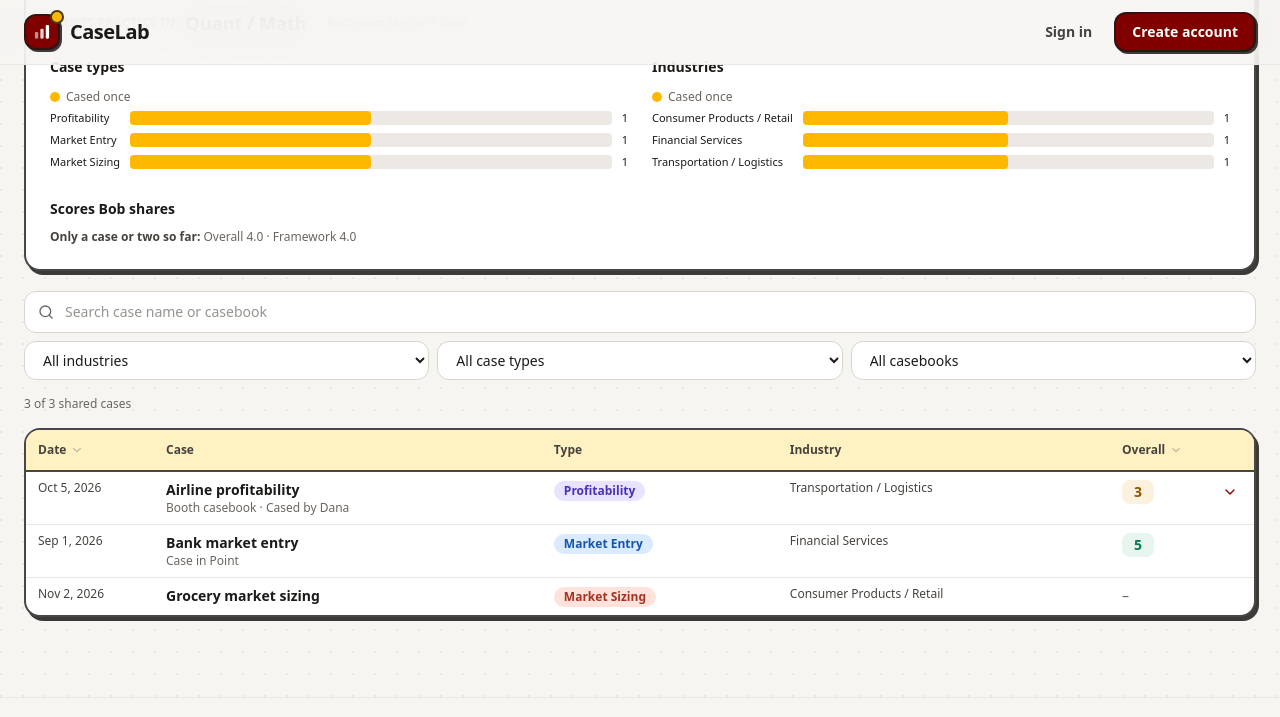
Scenario: a case history read as a table, where the page is one full-width column › filters the whole set, and the count line counts what the filter left
(page scrolled)
Expected: the table is shown, [26, 430, 1254, 614]
Expected: the text "3 of 3 shared cases" is shown, [24, 394, 131, 412]
Select "Market Entry" in the dropdown named "Filter by case type" at (640, 360), box [437, 340, 843, 380]
(page scrolled)
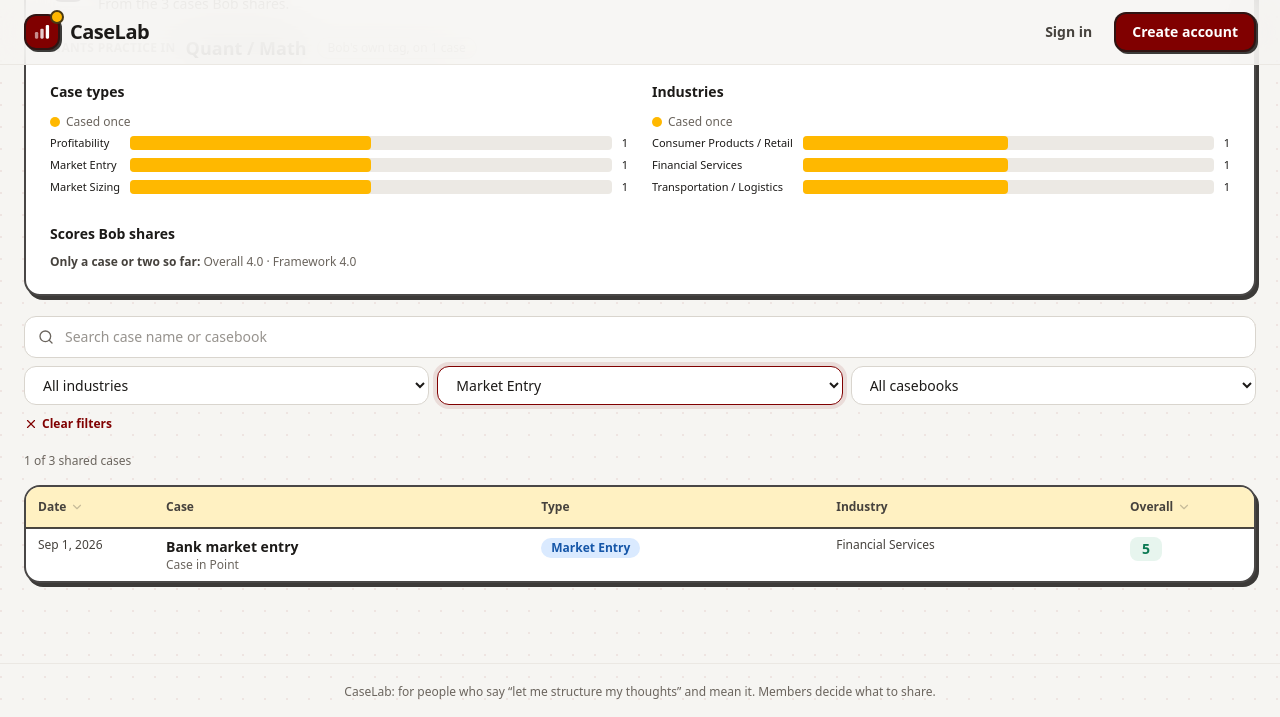
Result: the text "1 of 3 shared cases" is shown at [24, 452, 131, 468]
Select "Market Sizing" in the dropdown named "Filter by case type" at (640, 385), box [437, 366, 843, 404]
(page scrolled)
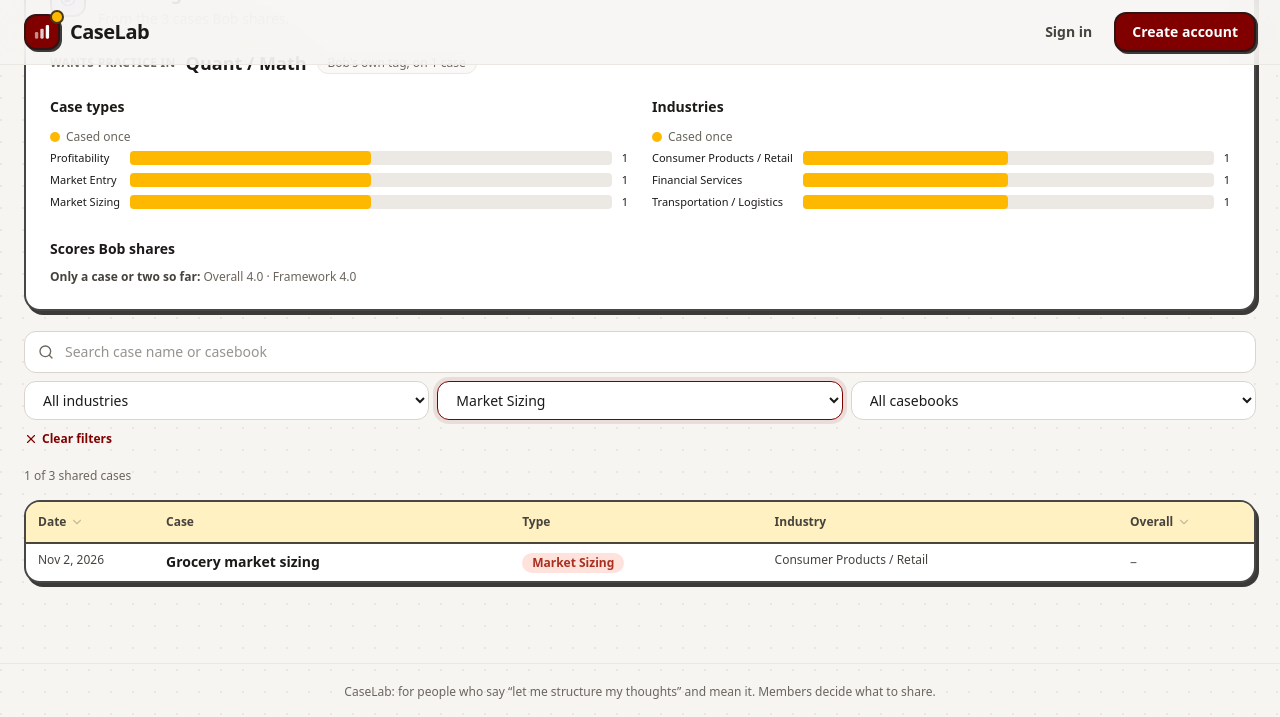
Type "airline" into the search field named "Search cases" at (640, 352), box [24, 330, 1256, 372]
(page scrolled)
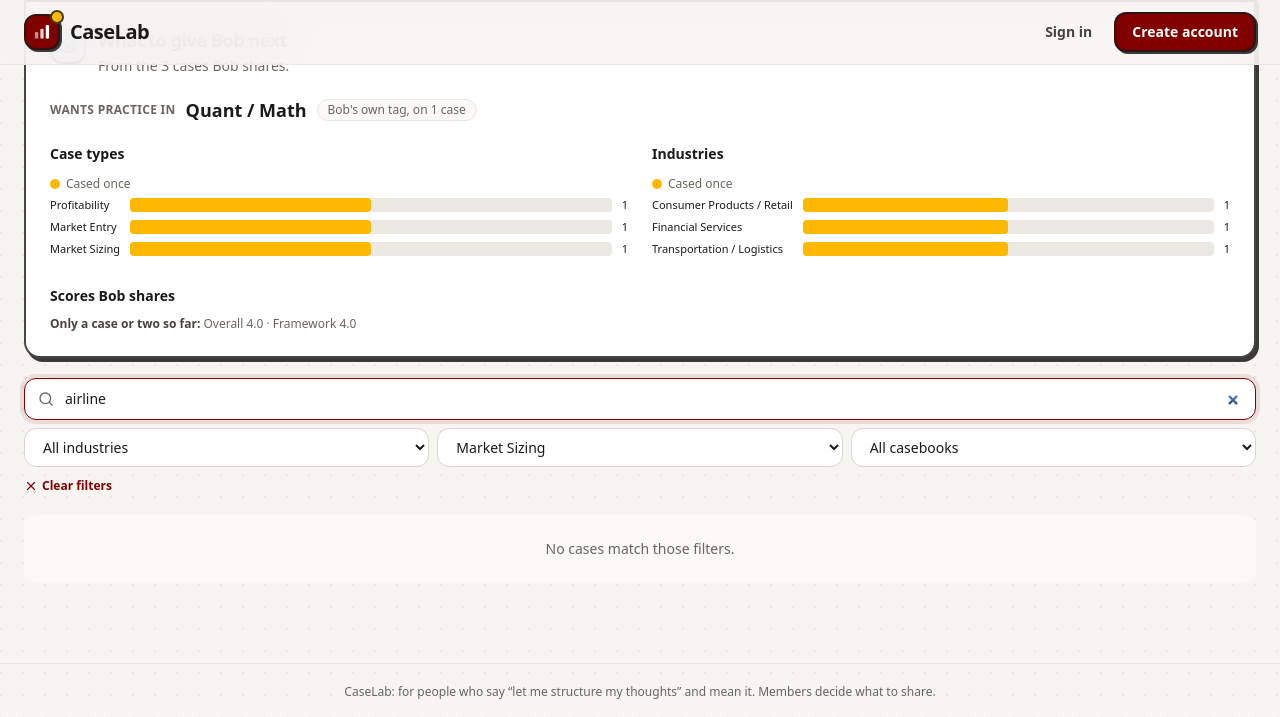
Result: the text "No cases match those filters." is shown at [24, 514, 1256, 582]
Result: the table is gone
